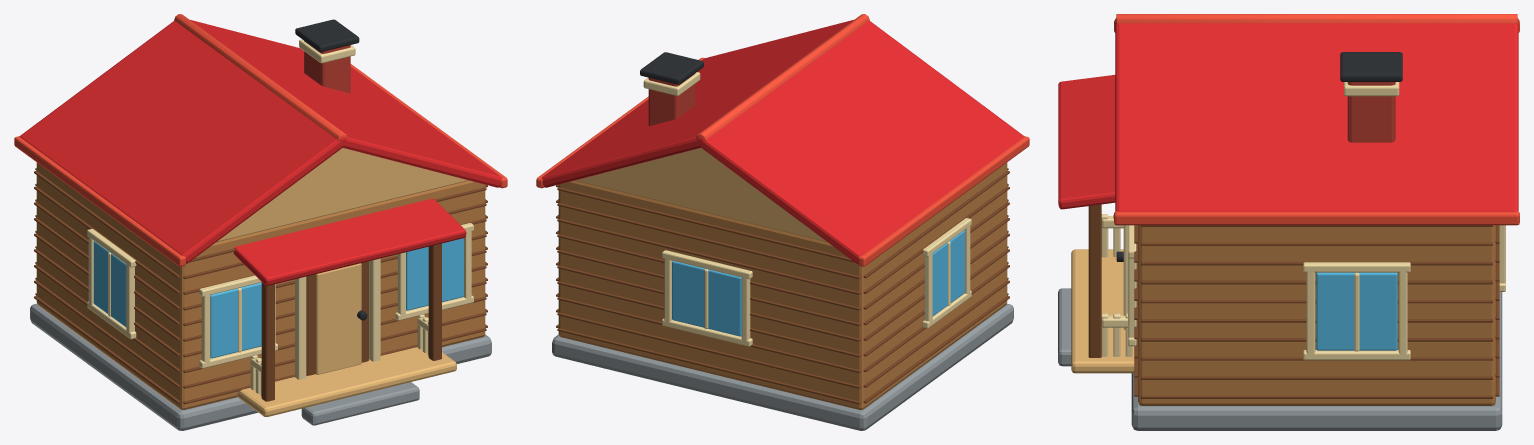
The model's file is FTF_Building_FarmCottage_WoodRedRoof_5m.glb.
3 views of the same model, side by side, from view 1: azimuth 30°, elevation 25°; view 2: azimuth 150°, elevation 25°; view 3: azimuth 270°, elevation 25° (orthographic). The views are drawn at different scales.
Visible parts, largest first — view 1: Roof_Left, Wood_Wall_Core, Roof_Right, Porch_Roof, Front_Gable, Porch_Deck, Stone_Foundation, Door_InnerPanel, Front_Window_L_Glass, Front_Window_R_Glass, Porch_Step, Left_Eave_Trim (+25 smaller); view 2: Wood_Wall_Core, Roof_Left, Roof_Right, Stone_Foundation, Rear_Gable, Rear_Window_Glass, Rear_Window, Left_Eave_Trim, Left_Window, Roof_Ridge_Cap, Left_Window_Glass, Chimney (+22 smaller); view 3: Roof_Right, Wood_Wall_Core, Stone_Foundation, Porch_Roof, Right_Window_Glass, Right_Eave_Trim, Porch_Deck, Right_Window, Roof_Ridge_Cap, Chimney, Porch_Post_R, Chimney_Cap (+15 smaller).
Part boxes in pixels (bbox=[...]): Roof_Left: bbox=[19, 21, 346, 263]; Wood_Wall_Core: bbox=[36, 162, 485, 409]; Roof_Right: bbox=[190, 20, 502, 187]; Porch_Roof: bbox=[233, 198, 466, 285]; Front_Gable: bbox=[216, 148, 468, 242]; Porch_Deck: bbox=[237, 347, 456, 416]; Stone_Foundation: bbox=[30, 303, 491, 430]; Door_InnerPanel: bbox=[316, 263, 361, 374]; Front_Window_L_Glass: bbox=[210, 282, 261, 358]; Front_Window_R_Glass: bbox=[406, 238, 463, 310]; Porch_Step: bbox=[301, 382, 419, 425]; Left_Eave_Trim: bbox=[14, 136, 185, 266]; Wood_Wall_Core: bbox=[558, 162, 1007, 409]; Roof_Left: bbox=[697, 21, 1024, 263]; Roof_Right: bbox=[541, 20, 853, 187]; Stone_Foundation: bbox=[552, 303, 1013, 430]; Rear_Gable: bbox=[575, 148, 827, 242]; Rear_Window_Glass: bbox=[672, 261, 741, 336]; Rear_Window: bbox=[662, 250, 752, 346]; Left_Eave_Trim: bbox=[858, 136, 1029, 266]; Left_Window: bbox=[922, 218, 971, 328]; Roof_Ridge_Cap: bbox=[696, 14, 869, 140]; Left_Window_Glass: bbox=[932, 230, 964, 316]; Chimney: bbox=[648, 73, 695, 125]; Roof_Right: bbox=[1115, 18, 1518, 211]; Wood_Wall_Core: bbox=[1138, 225, 1495, 405]; Stone_Foundation: bbox=[1131, 292, 1502, 430]; Porch_Roof: bbox=[1058, 75, 1115, 209]; Right_Window_Glass: bbox=[1316, 272, 1397, 350]; Right_Eave_Trim: bbox=[1114, 211, 1519, 225]; Porch_Deck: bbox=[1071, 249, 1134, 373]; Right_Window: bbox=[1303, 262, 1410, 360]; Roof_Ridge_Cap: bbox=[1116, 14, 1517, 24]; Chimney: bbox=[1347, 82, 1395, 142]; Porch_Post_R: bbox=[1088, 204, 1101, 357]; Chimney_Cap: bbox=[1340, 52, 1402, 81].
Size of the model in its own units: 6.38 by 5 by 6.35.
